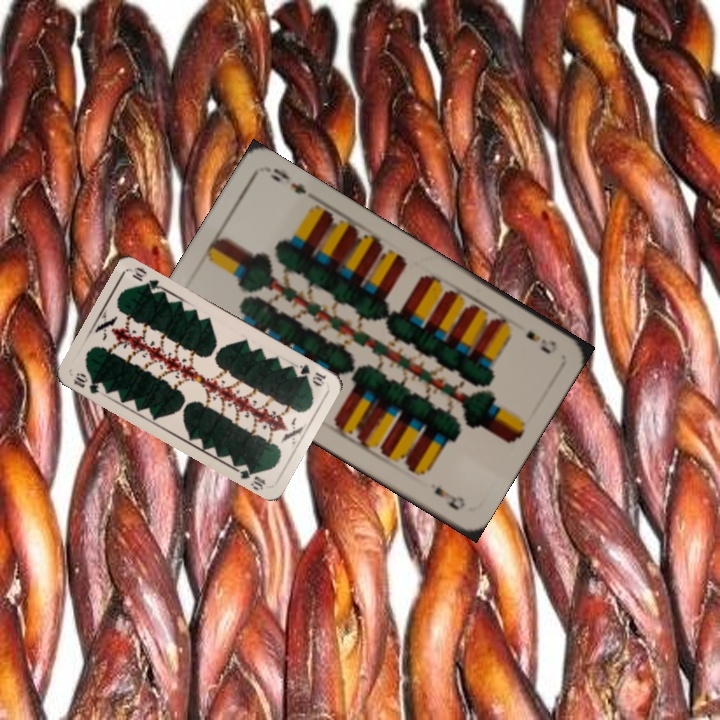E9: (521, 326, 559, 357)
G10: (291, 360, 329, 388), (69, 368, 102, 397)
